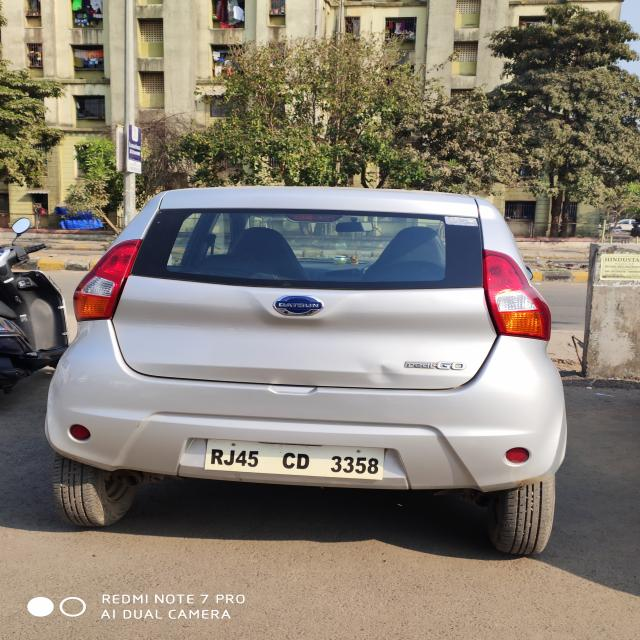Number-Plate: (202, 441, 384, 476)
